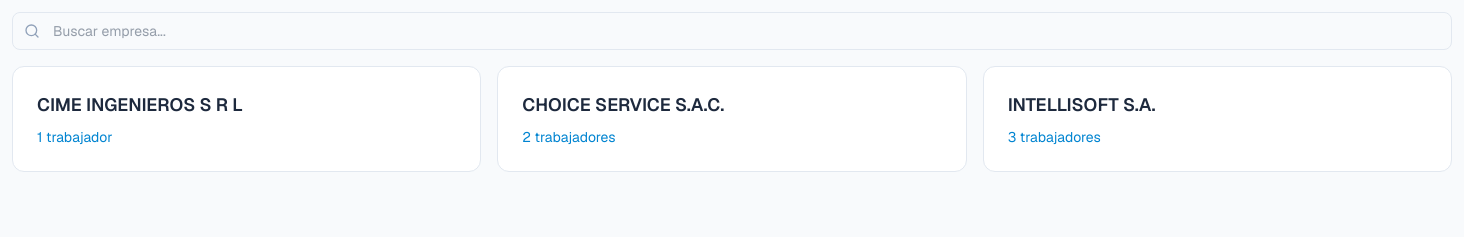
Test: CompanySelector › shows no-match message when search does not match any company
Expected: the heading "CIME INGENIEROS S R L" is shown, x1=37 y1=93 x2=243 y2=116
Type "NOEXISTE" into the field with placeholder "Buscar empresa..." at (732, 31), box x1=12 y1=12 x2=1452 y2=50
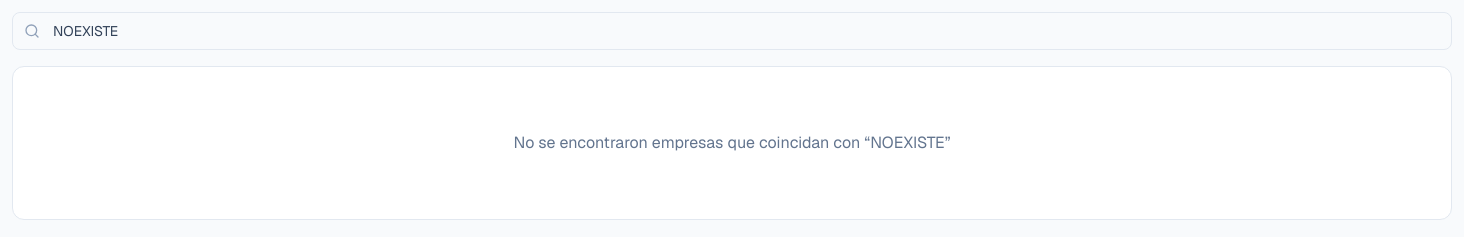
Now the button "CIME INGENIEROS S R L" is gone
Now the text "No se encontraron empresas que coincidan con “NOEXISTE”" is shown, box x1=513 y1=132 x2=951 y2=153
